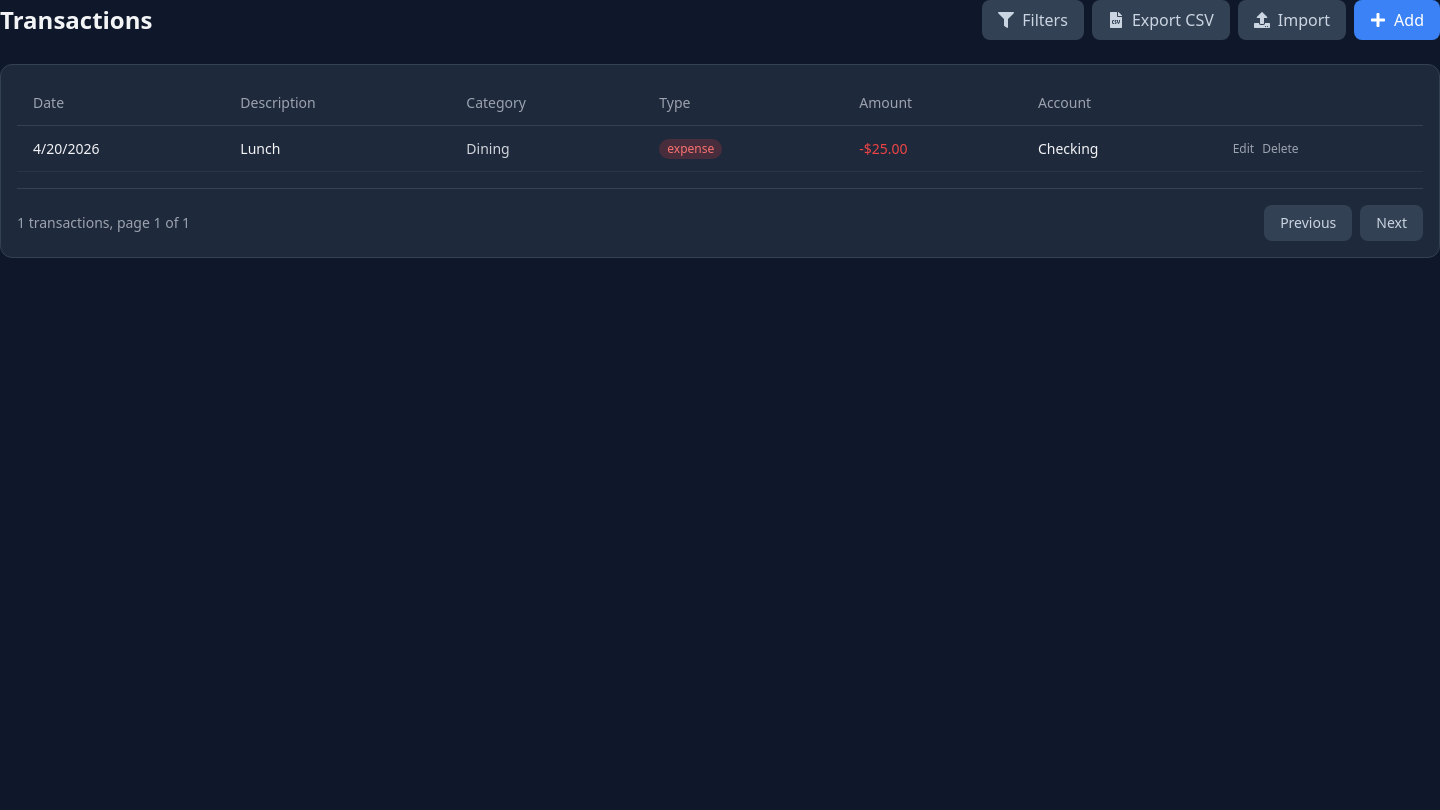
Transactions › opens edit modal when Edit clicked
Click the button "Edit".
click(1243, 148)  # box [1233,140,1254,156]
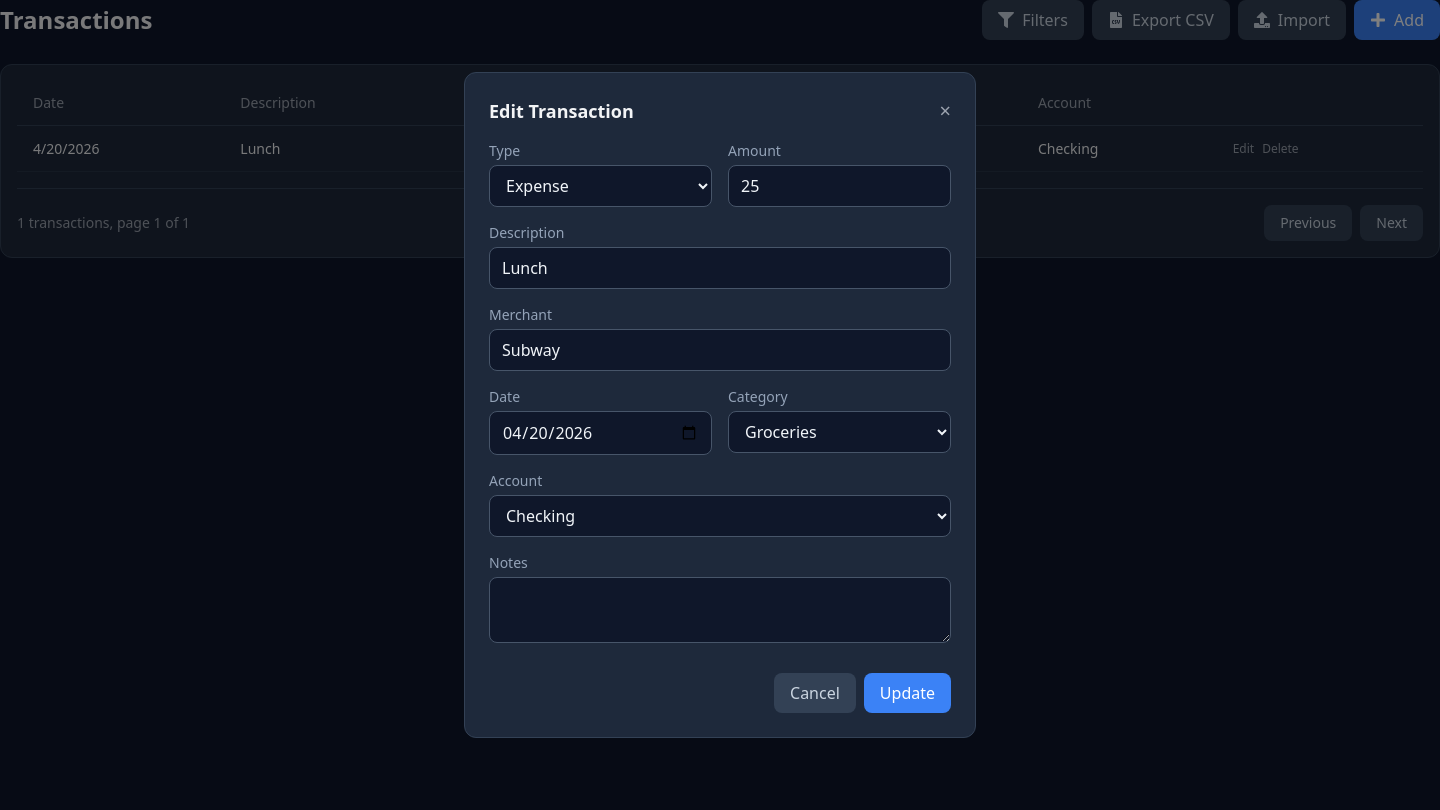
Now the heading "Edit Transaction" is shown, box [489,97,634,125]
Now the button "Update" is shown, box [864,673,951,713]
